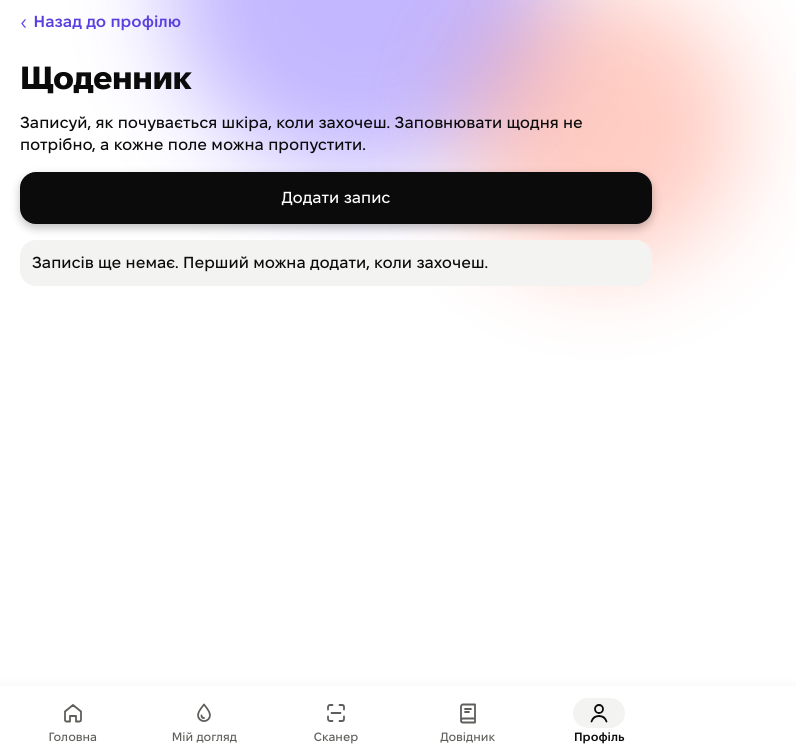
Test case: creating an entry › "Cancel" closes the form and saves nothing
Click the button "Додати запис" at (336, 198), box [20,172,652,224]
(page scrolled)
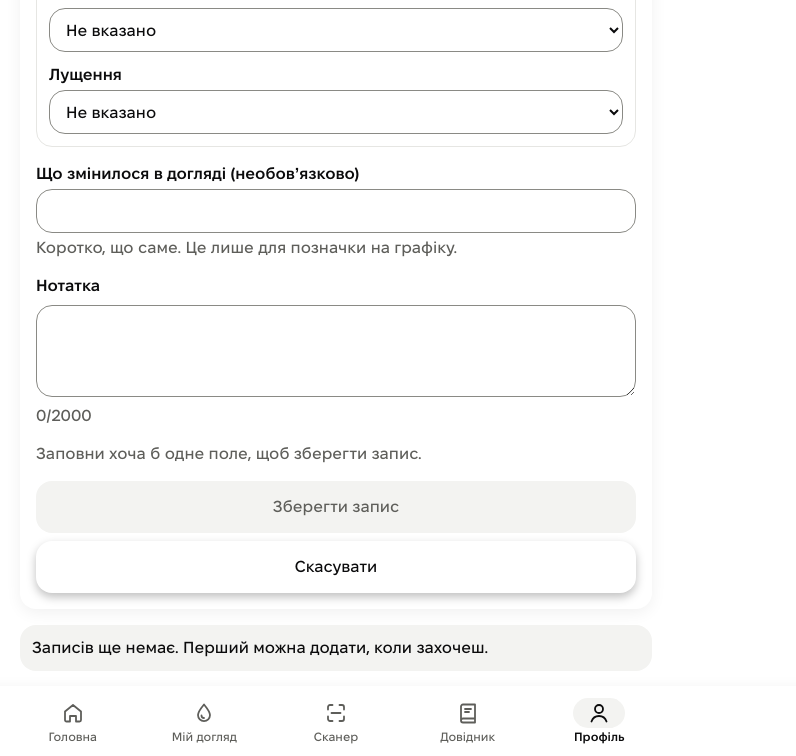
Type "draft" into the text box labelled "Нотатка" at (336, 351), box [36,305,636,397]
(page scrolled)
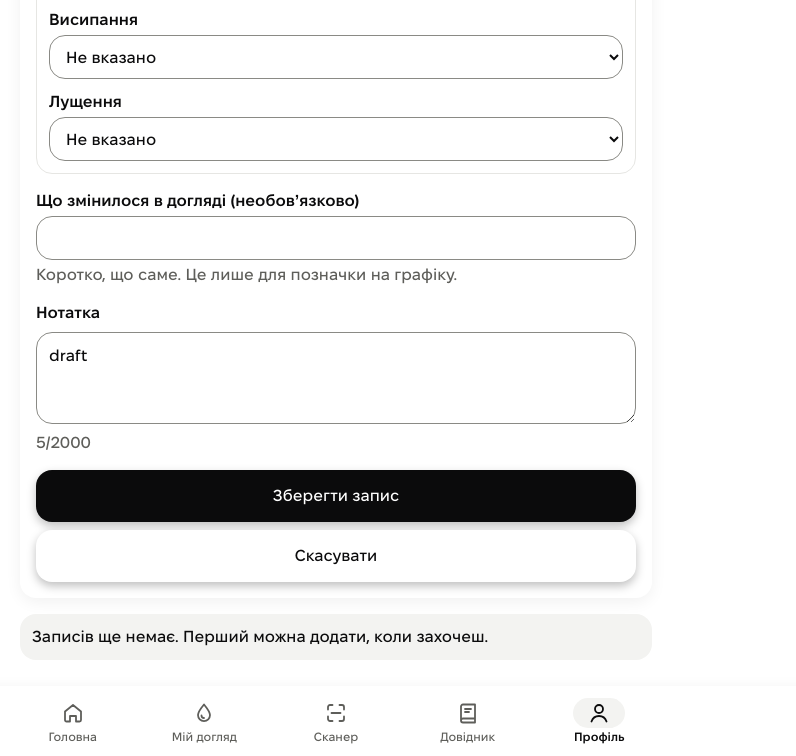
Click the button "Скасувати" at (336, 556), box [36,530,636,582]
(page scrolled)
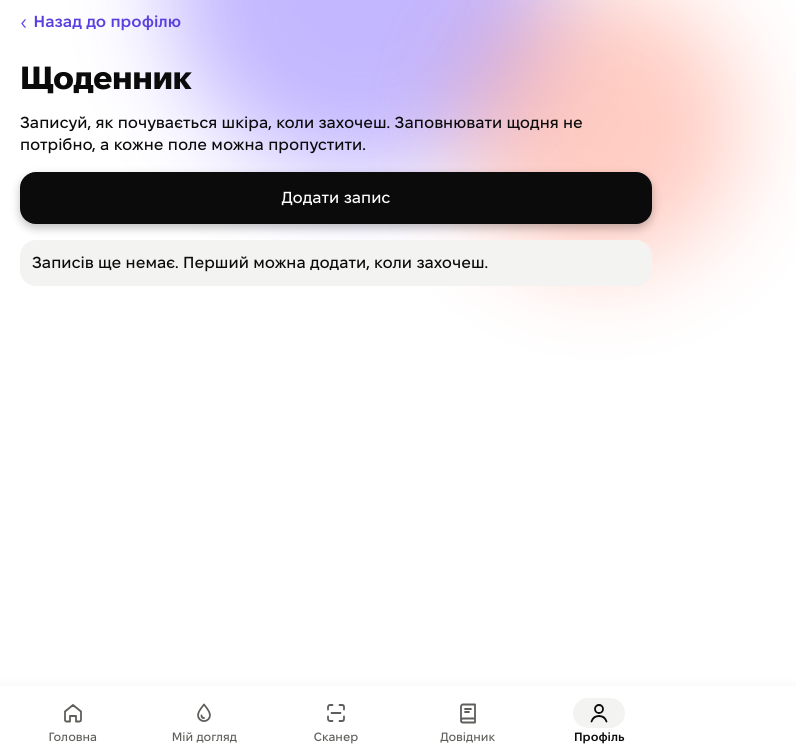
Now the label labelled "Нотатка" is gone
